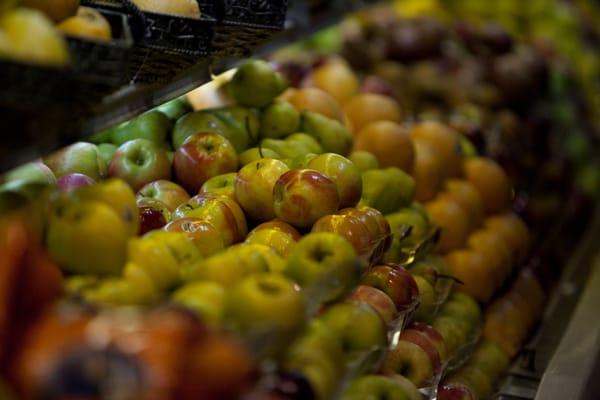steak: (272, 168, 340, 231)
